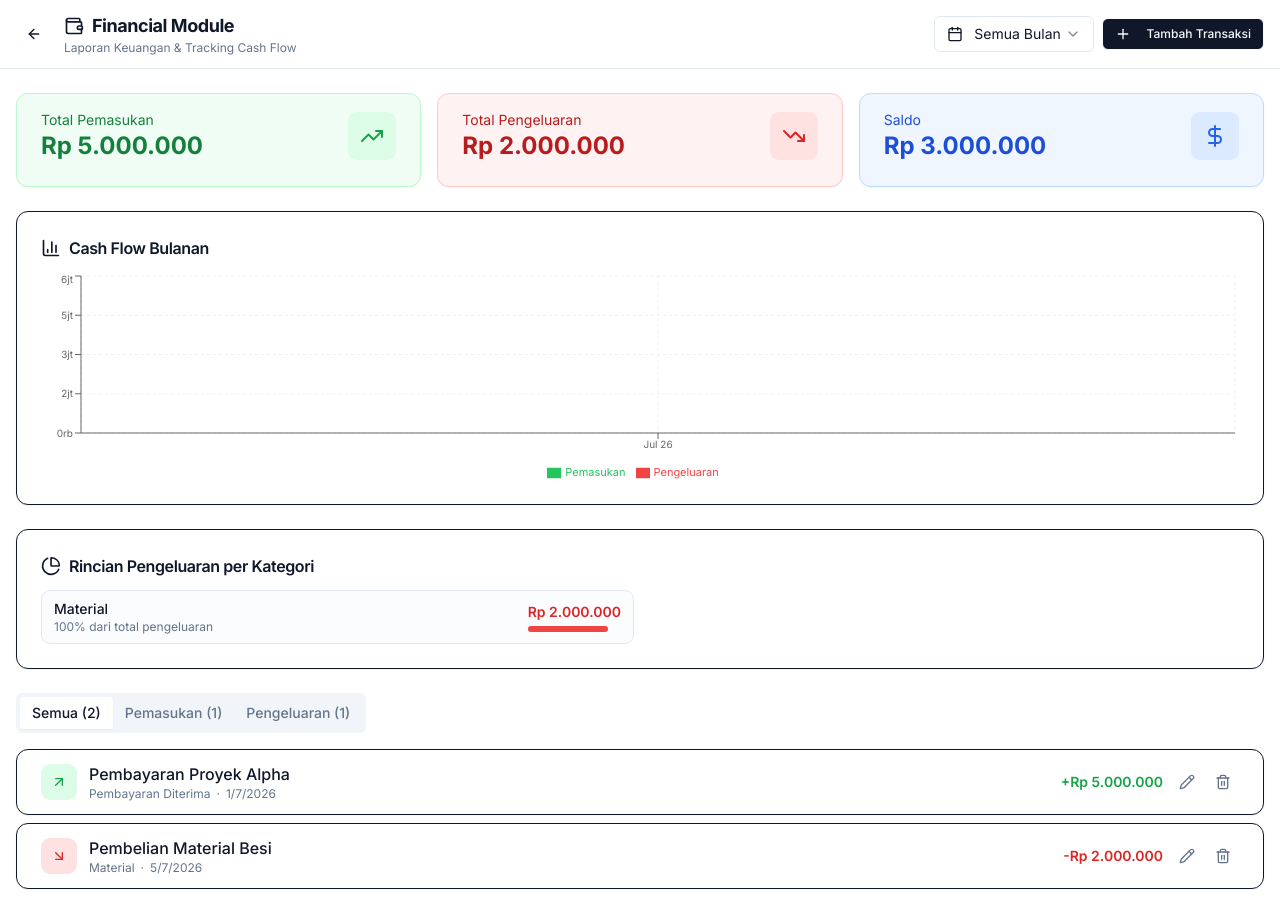
Scenario: FinancialModule – delete transaction › opens the confirmation dialog when the delete button is clicked
Click the 6th button at (1223, 856), box 1207,840 -> 1239,872
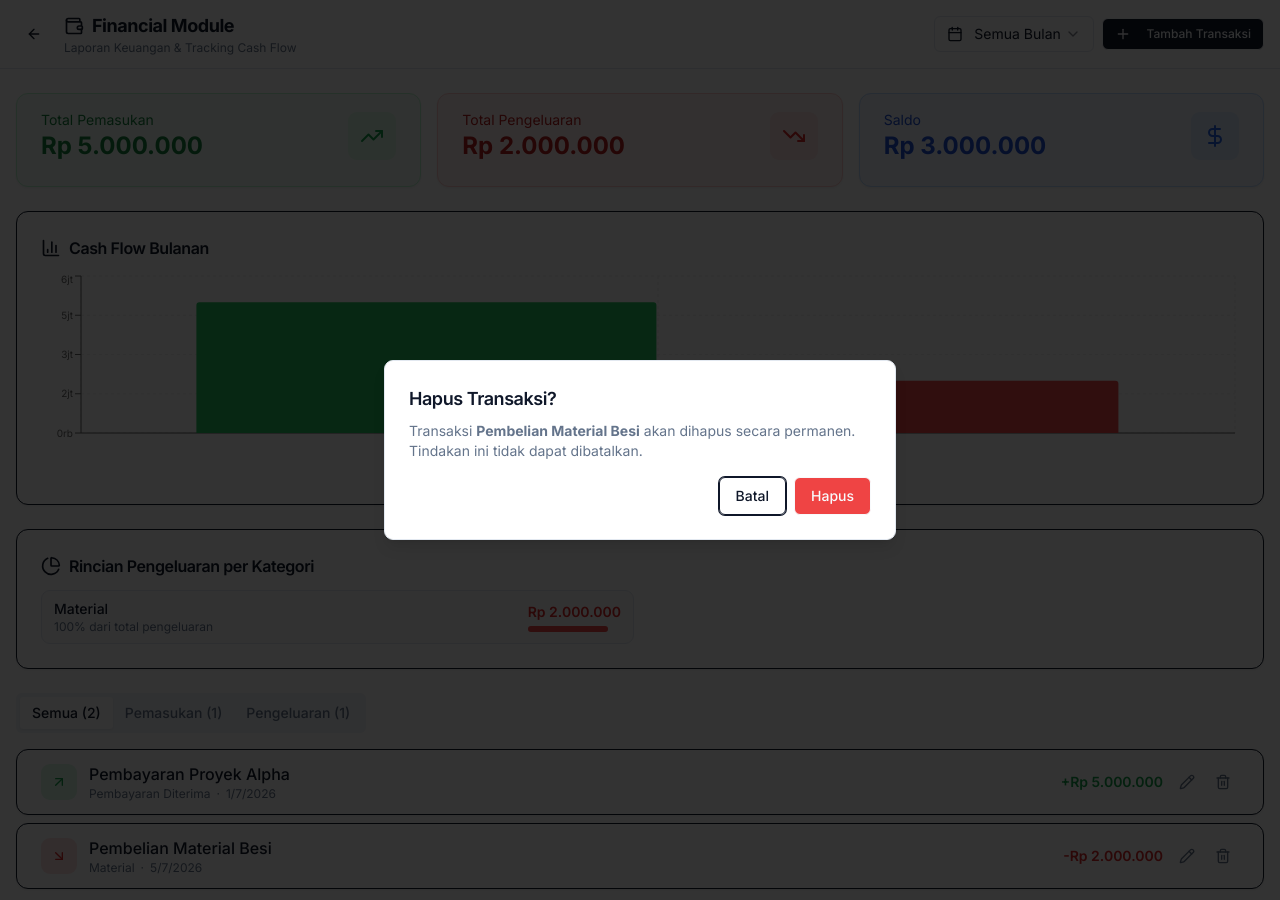
expect the heading "Hapus Transaksi?" is shown: met, box 409,388 -> 556,409
expect the dialog is shown: met, box 384,360 -> 896,540
